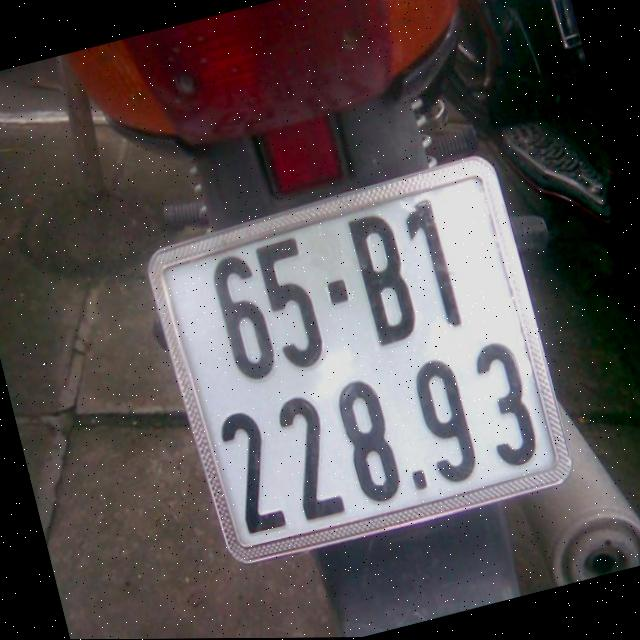motorcycle: (57, 0, 640, 640)
plate: (137, 149, 578, 578)
